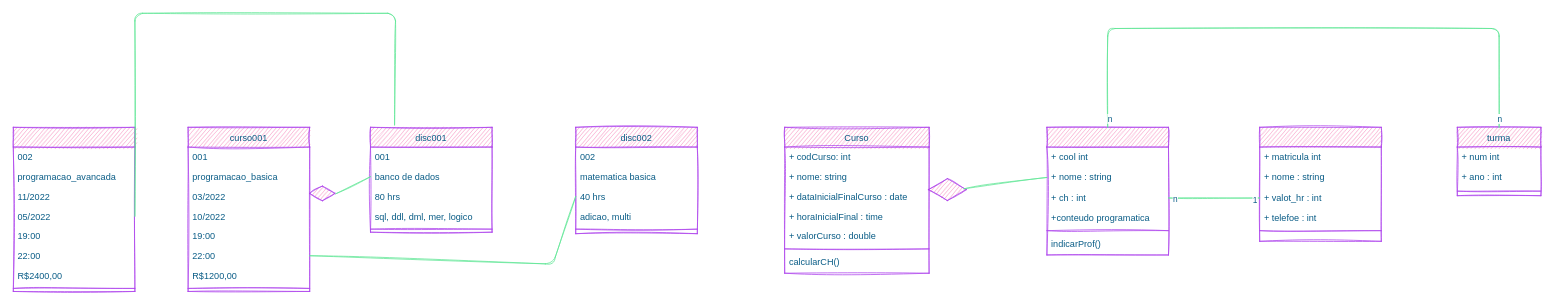
Some shapes in this 1554 by 305 pixel diagram are drawn without their labels. Here are the shapes that lost their labels. From the top down, the box of each, then its label:
(1046, 127, 1168, 255): disciplina
(1259, 127, 1381, 241): Professor
(13, 127, 135, 291): curso002
